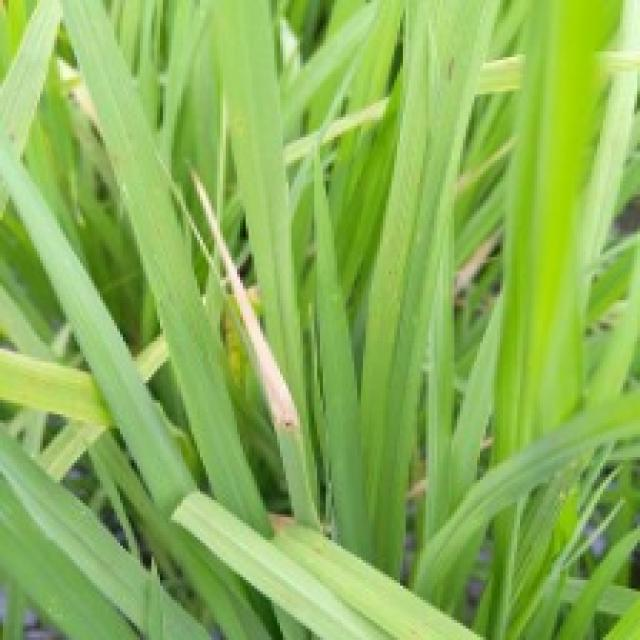Rice___Bacterial_Leaf_Blight: (186, 166, 321, 527)
